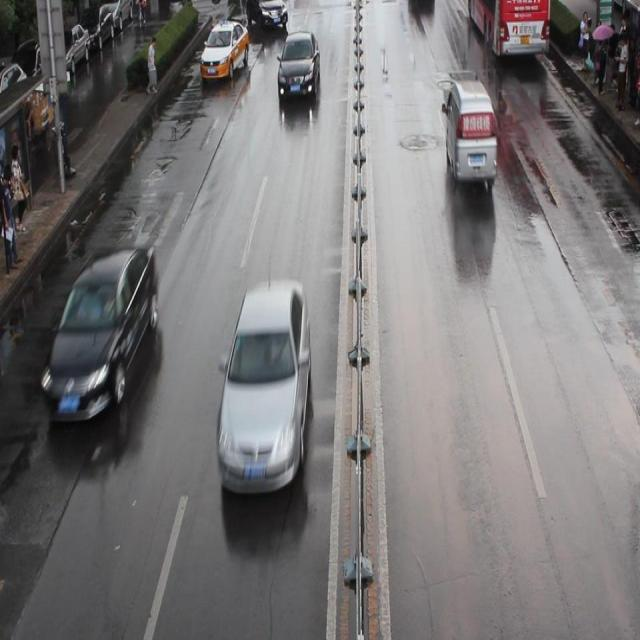car: (41, 241, 158, 423), (214, 277, 310, 495), (200, 18, 249, 82), (276, 29, 319, 99), (243, 1, 288, 31), (406, 1, 434, 10)
truck: (441, 78, 497, 184)
van: (460, 1, 549, 57)
